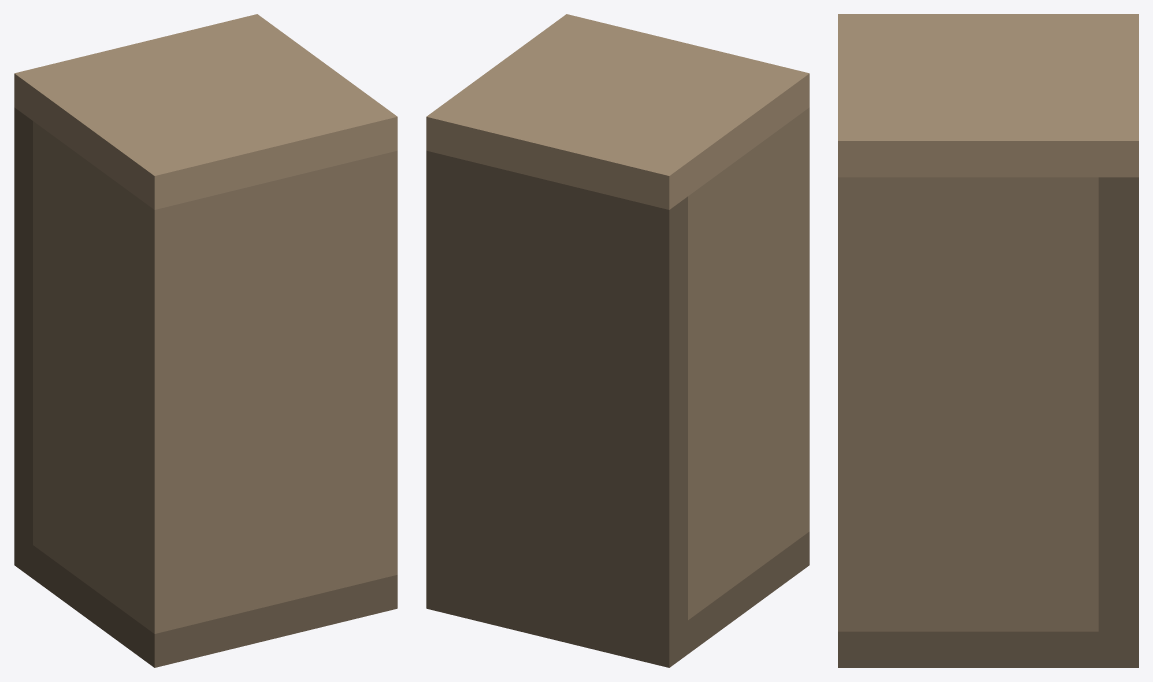
Rendered from estanteria_empotrada_01.glb.
The picture shows the model from 3 angles, left to right: view 1: azimuth 30°, elevation 25°; view 2: azimuth 150°, elevation 25°; view 3: azimuth 270°, elevation 25°; orthographic projection. The views are drawn at different scales.
Parts seen in each view (by area): view 1: estanteria_empotrada; view 2: estanteria_empotrada; view 3: estanteria_empotrada.
Boxes of the visible parts, x1,y1,x2,y2 form: estanteria_empotrada: (14, 14, 397, 667); estanteria_empotrada: (426, 14, 809, 667); estanteria_empotrada: (838, 14, 1138, 667).
Bounding box in the file's own units: 1 × 1.93 × 1.
